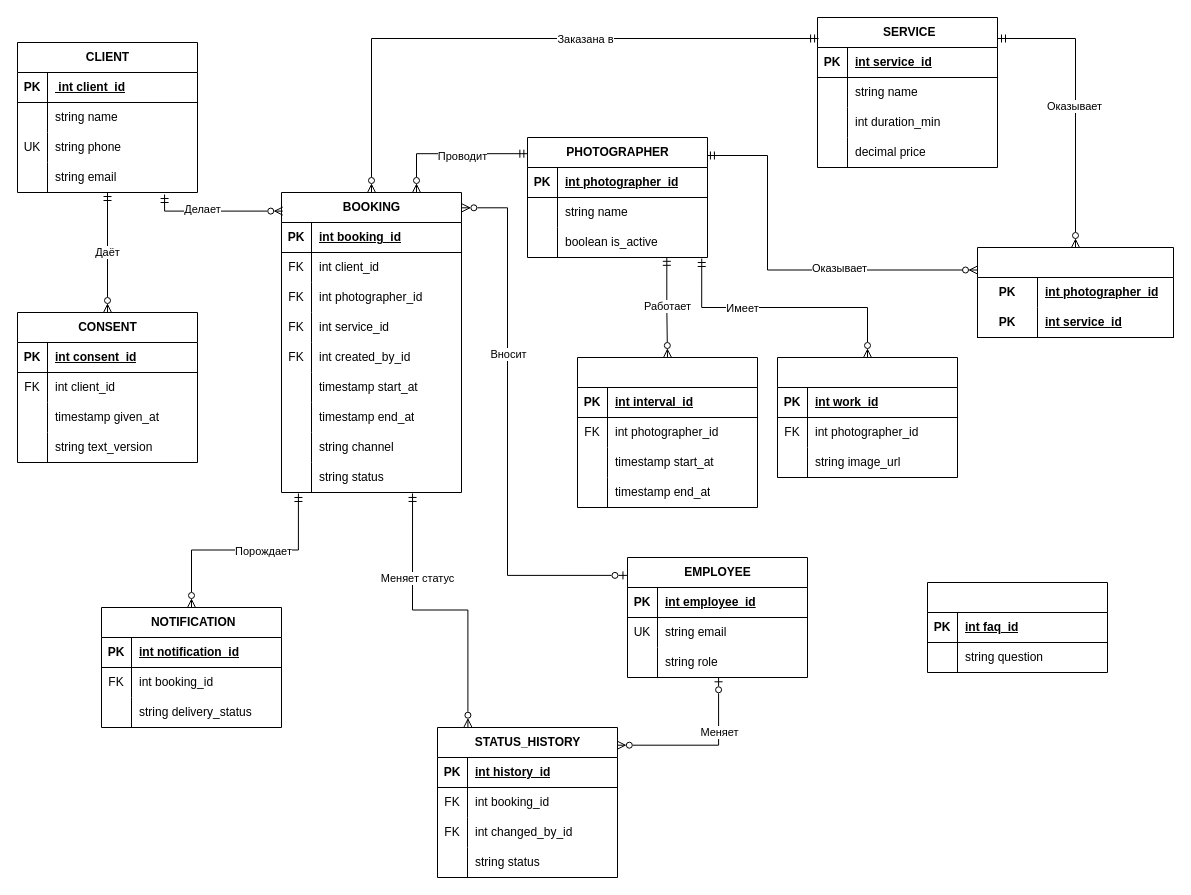
The diagram is 1191 pixels wide and 895 high, and some of its shapes have lost their labels. The shapes that lost their labels are listed below. From the top down, each one's box as (x1, y1, x2, y2) in pixels, then its label:
(976, 246, 1174, 338): PHOTOGRAPHER_SERVICE
(576, 356, 758, 508): WORK_INTERVAL
(776, 356, 958, 478): PORTFOLIO_WORK
(926, 582, 1108, 672): FAQ_ITEM
